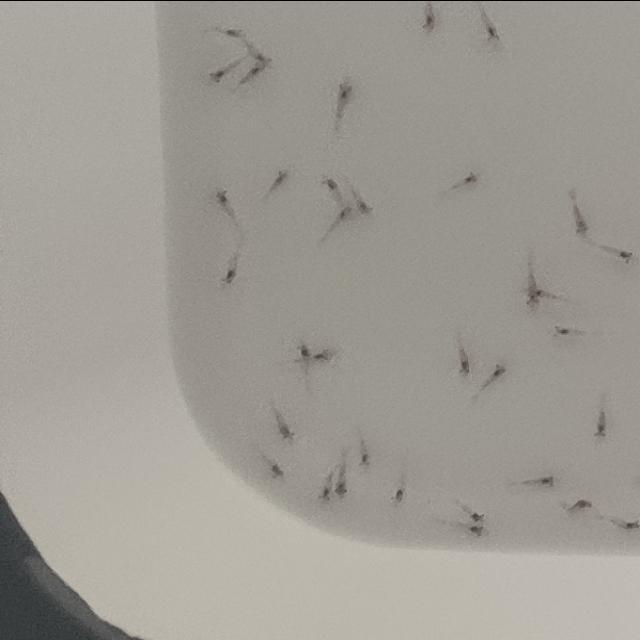shrimp-seed: (420, 12, 440, 32), (336, 79, 356, 99), (572, 214, 592, 234), (484, 20, 502, 40), (616, 245, 636, 263), (390, 485, 410, 503), (278, 421, 298, 439), (206, 66, 228, 82), (464, 167, 484, 184), (552, 322, 574, 337), (270, 460, 288, 478), (592, 416, 608, 436), (220, 266, 238, 283), (540, 471, 559, 487), (314, 347, 334, 362), (358, 198, 374, 216), (296, 341, 314, 357), (335, 478, 351, 496), (249, 63, 269, 77), (574, 495, 594, 509), (324, 173, 340, 190), (358, 449, 374, 466), (226, 24, 244, 39), (255, 51, 274, 65), (275, 166, 290, 183), (468, 522, 486, 536), (318, 485, 332, 503), (459, 356, 473, 372), (338, 204, 354, 218), (528, 284, 546, 296), (626, 517, 640, 531), (494, 360, 508, 374), (526, 294, 542, 306), (216, 188, 229, 202), (471, 510, 486, 520)
